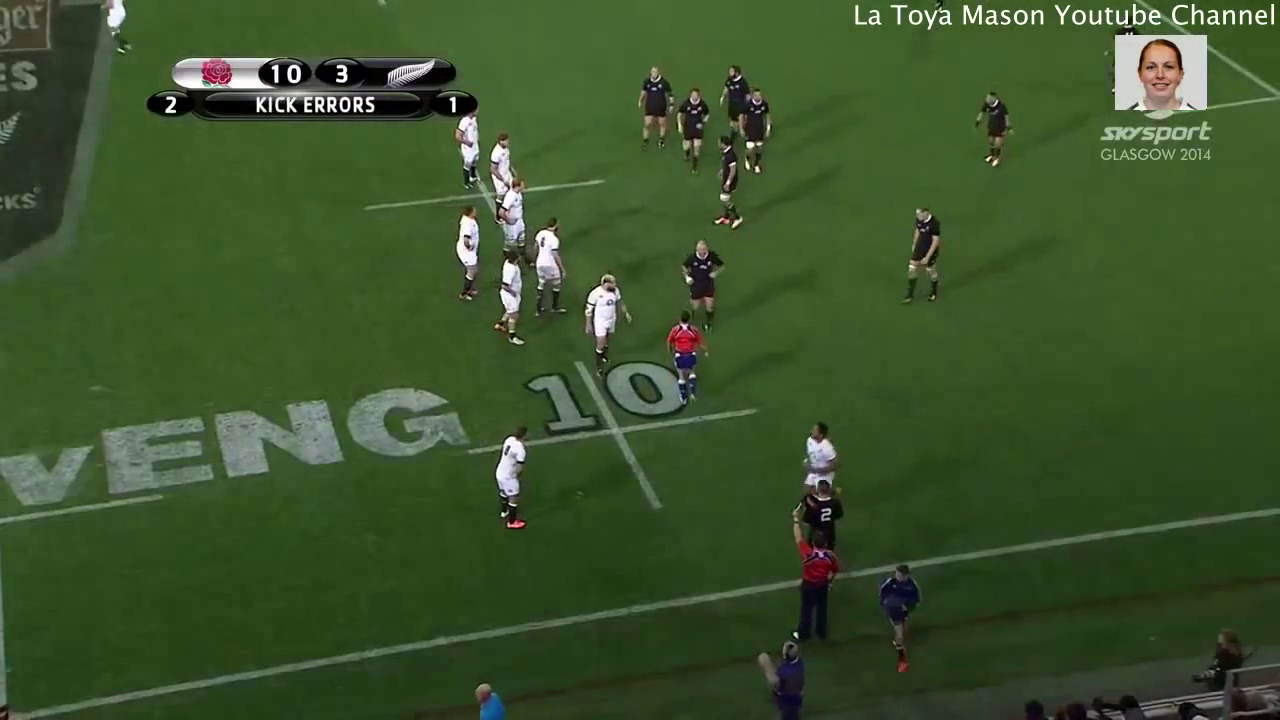10_metre: (463, 355, 769, 516), (359, 149, 613, 250)
player: (785, 499, 854, 648), (575, 267, 636, 379), (483, 418, 539, 537), (893, 200, 949, 316), (789, 412, 851, 508), (671, 234, 726, 338), (523, 208, 572, 318), (658, 303, 706, 411), (445, 195, 488, 313), (793, 475, 849, 565), (487, 241, 530, 354), (961, 86, 1016, 174), (706, 130, 750, 236), (630, 61, 677, 159), (734, 87, 778, 177), (672, 81, 711, 181), (448, 94, 485, 197), (716, 58, 753, 151), (484, 128, 513, 232), (498, 171, 535, 251), (95, 1, 140, 60)
